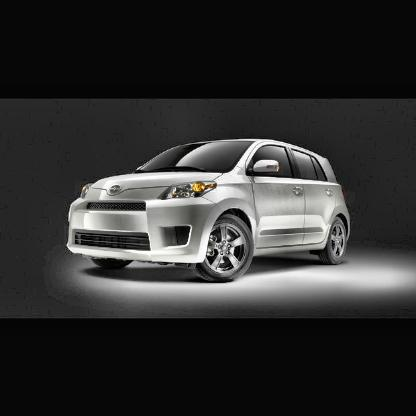Scion xD Hatchback 2012: (64, 135, 349, 285)
